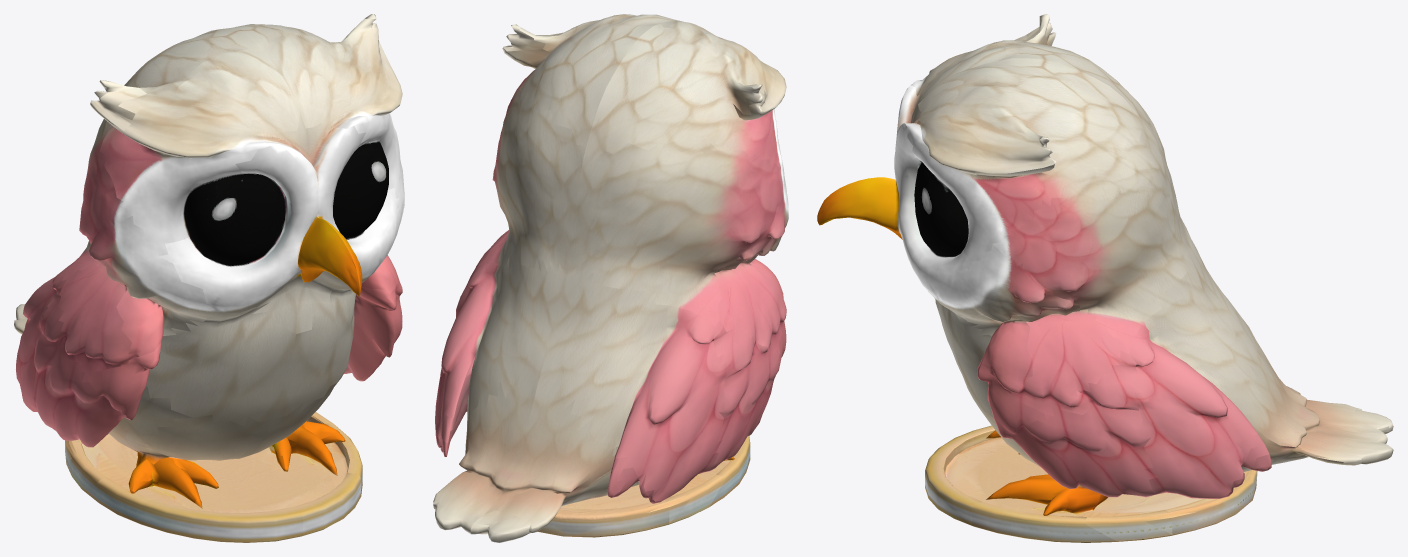
The model's file is owlv01.glb.
3 views of the same model, side by side, from view 1: azimuth 30°, elevation 25°; view 2: azimuth 150°, elevation 25°; view 3: azimuth 270°, elevation 25° (orthographic). The views are drawn at different scales.
Visible parts, largest first — view 1: mesh_node; view 2: mesh_node; view 3: mesh_node.
Part boxes in pixels (bbox=[...]): mesh_node: bbox=[14, 14, 404, 542]; mesh_node: bbox=[433, 14, 788, 542]; mesh_node: bbox=[817, 14, 1393, 542].
Bounding box in the file's own units: 1.13 × 1.57 × 1.91.
Materials: 1 (1 with a texture image).
